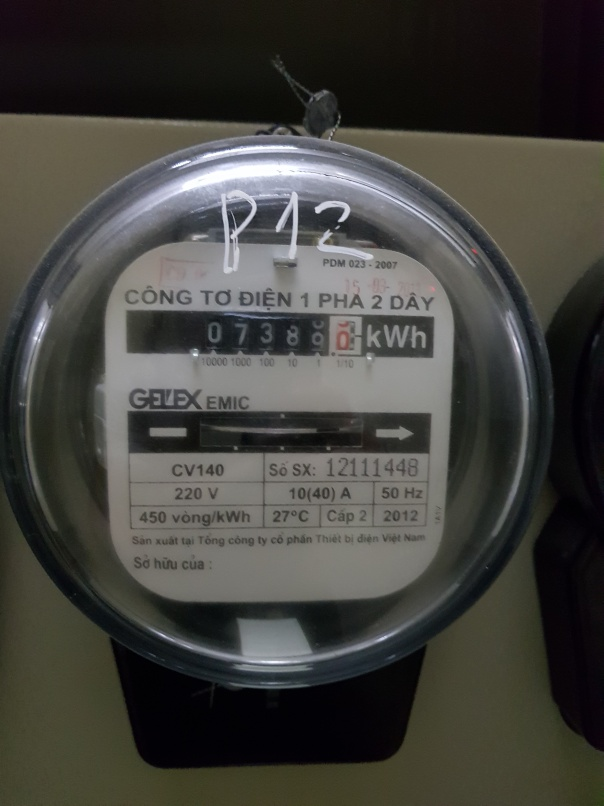counter: (126, 312, 434, 356)
electricity_meter: (5, 135, 548, 690)
